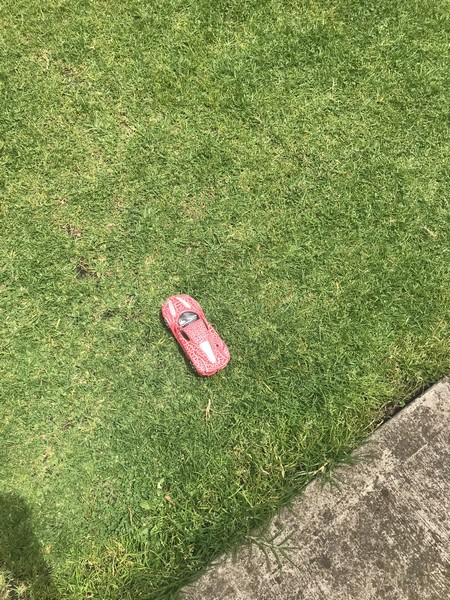RC: (158, 291, 231, 378)
